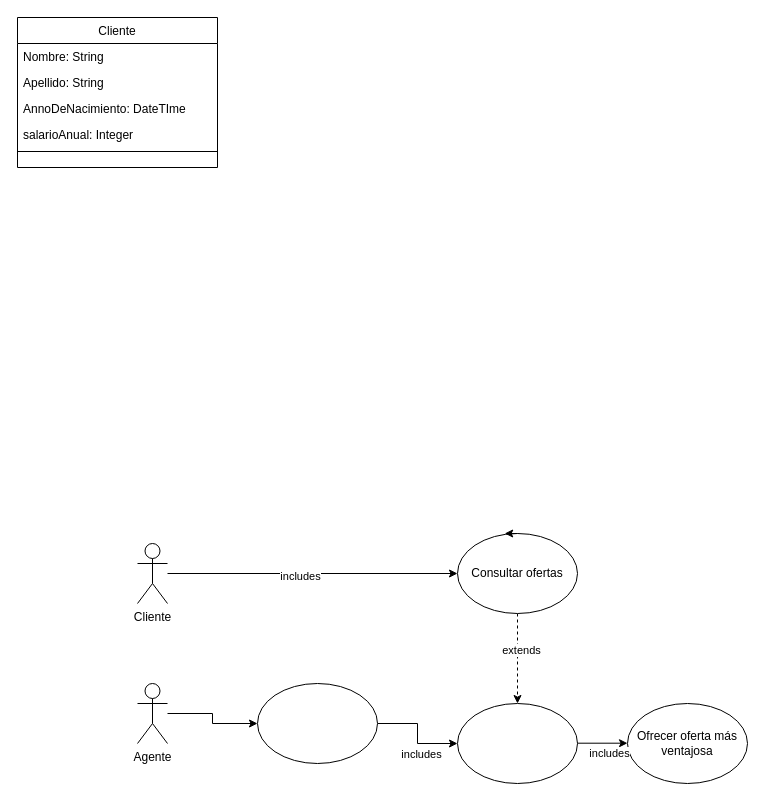
This 765x801 diagram has some shape labels left out. The centre of each missing label's shape, as x and y in pixels:
"Consultar estado de las ofertas" goes at point (517, 743).
"Introducir datos del cliente" goes at point (317, 723).
